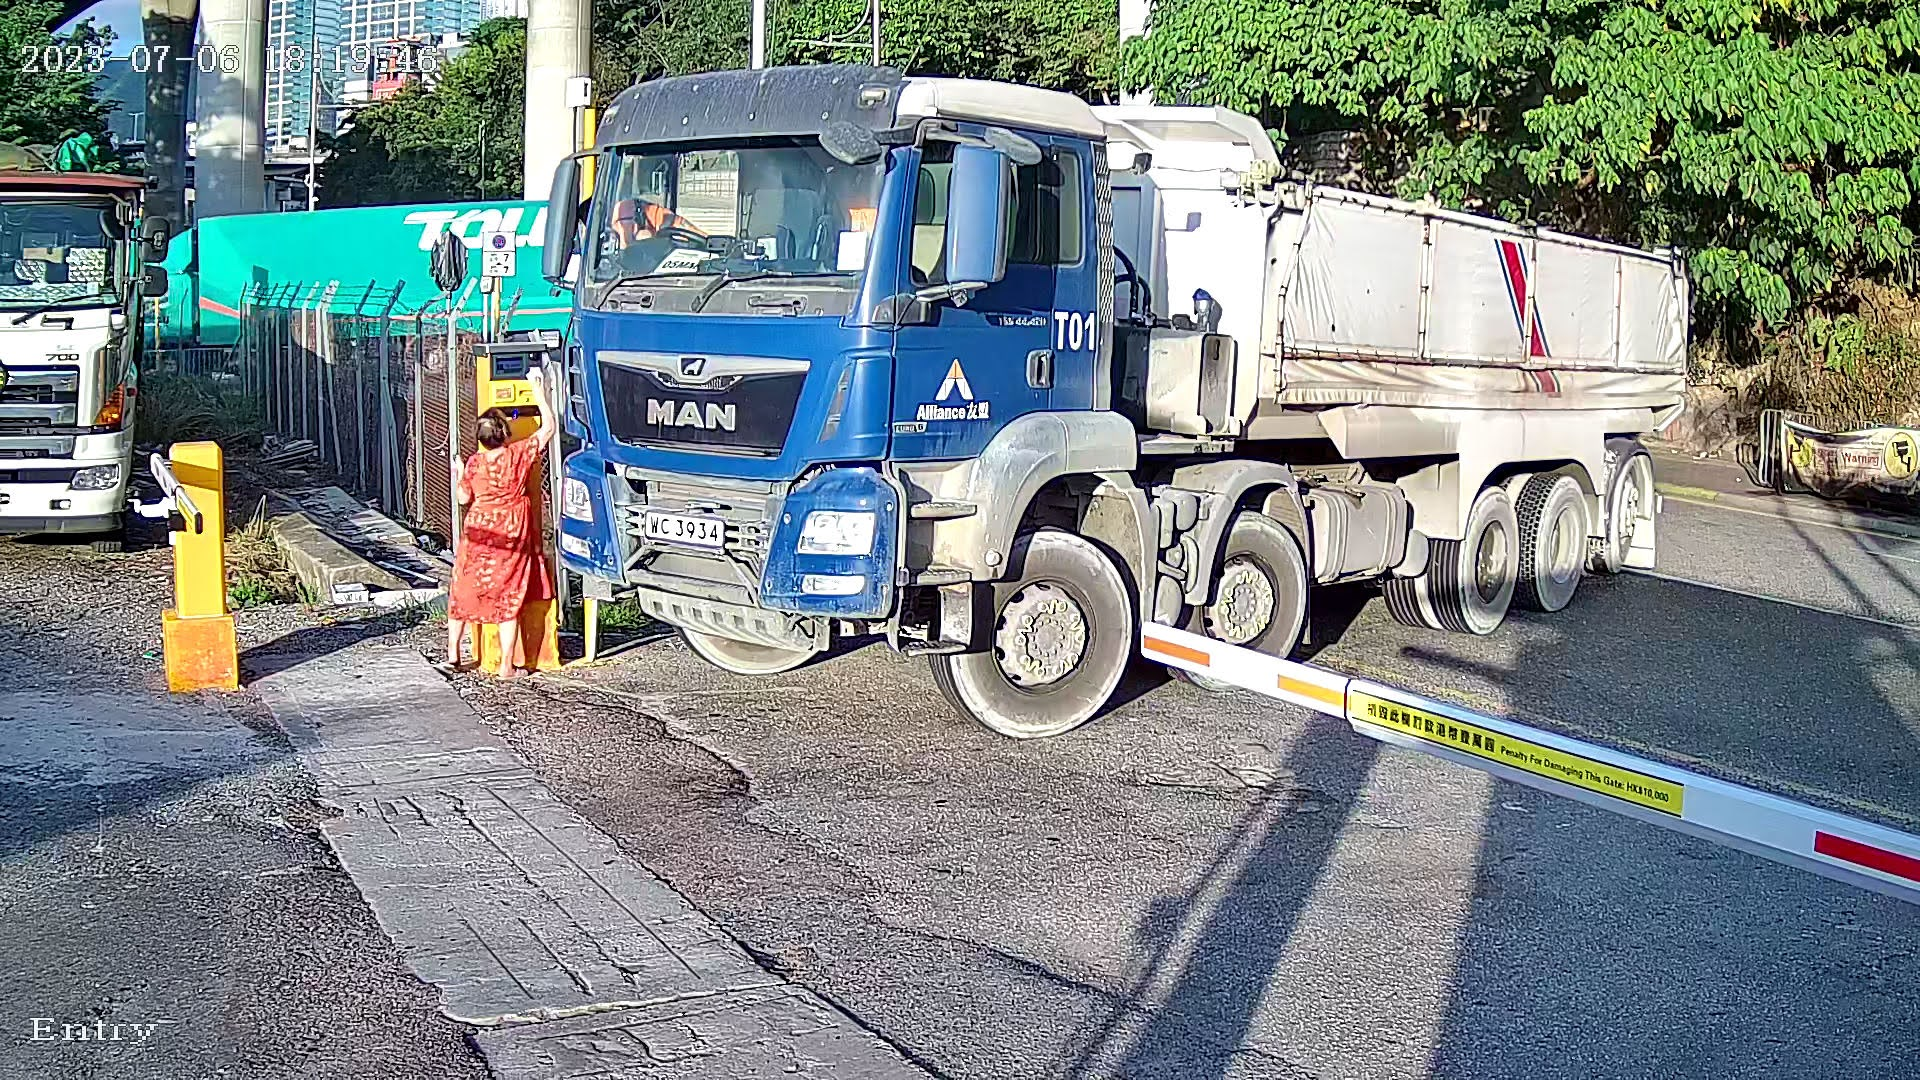truck_large: (516, 53, 1749, 742)
